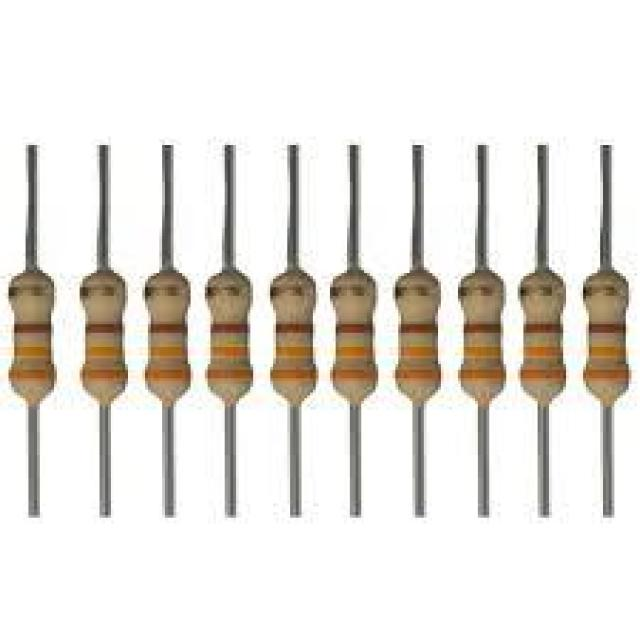Resistor: (205, 145, 254, 517), (330, 145, 379, 517), (270, 144, 318, 517), (582, 145, 630, 517), (458, 145, 506, 517), (394, 145, 441, 517), (519, 145, 566, 517), (81, 145, 128, 516), (8, 145, 55, 516), (145, 145, 191, 517)
